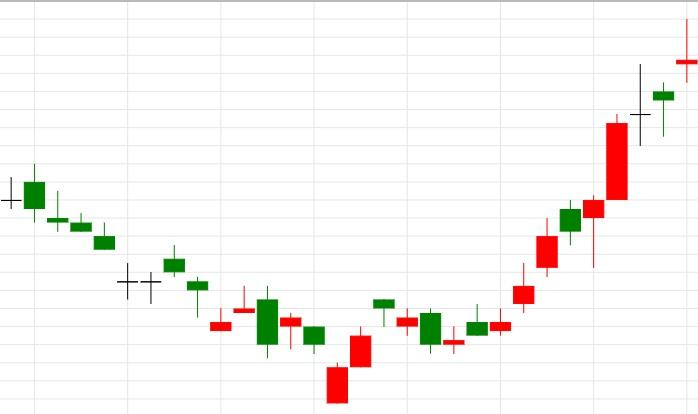hanging_man_fall: (489, 195, 605, 336)
